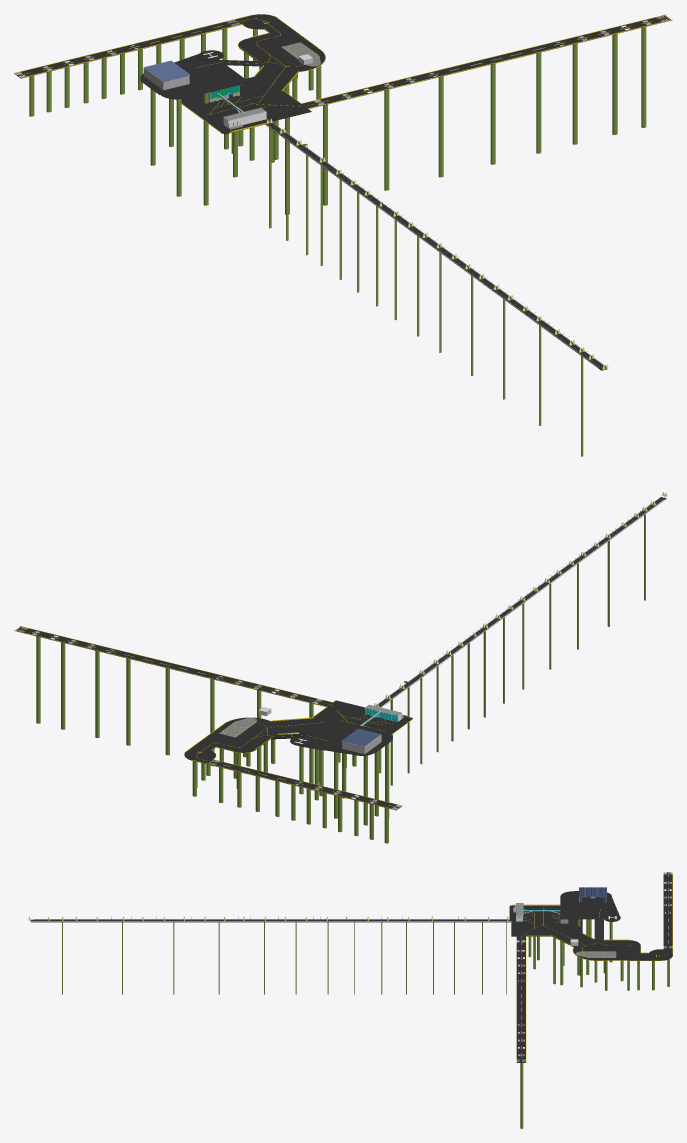
File: tav9.glb
The picture shows the model from 3 angles, top to bottom: view 1: azimuth 30°, elevation 25°; view 2: azimuth 150°, elevation 25°; view 3: azimuth 270°, elevation 25°; orthographic projection. The views are drawn at different scales.
Parts seen in each view (by area): view 1: mesh (×6), cylinder; view 2: mesh (×6), cylinder, group; view 3: mesh (×6), group, cylinder.
Part boxes in pixels (x1,y1,x2,y2): mesh (×6): (14,15,671,370); cylinder: (256,42,325,71); mesh (×6): (16,497,666,810); cylinder: (219,717,278,742); group: (184,725,248,754); mesh (×6): (30,872,672,1062); group: (602,945,662,960); cylinder: (573,940,621,960).
Size of what is drawn, in the model's own units: 95.04 by 20.5 by 139.
45 materials, 42 textured.
